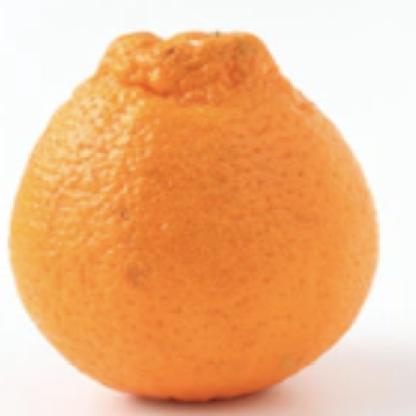fresh: (13, 29, 380, 402)
